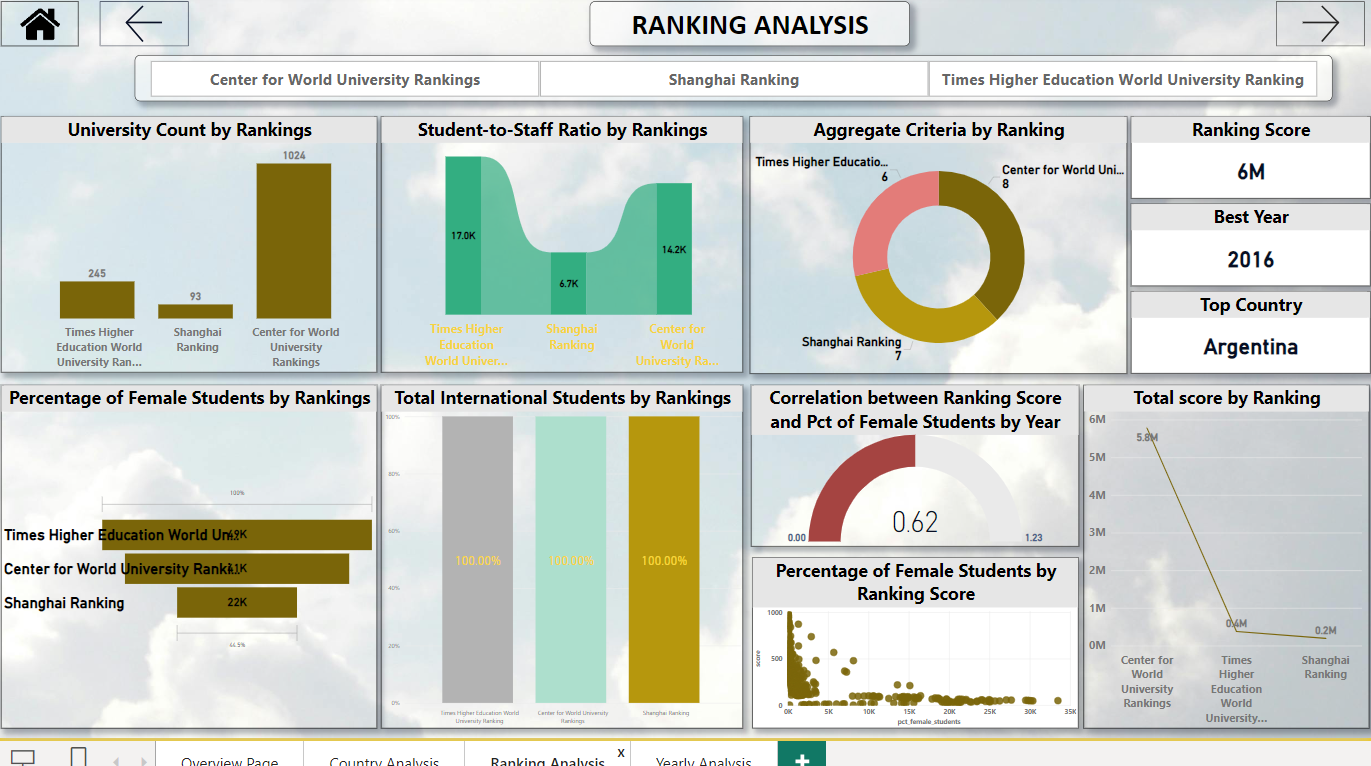

The dashboard page shown, as its layout file describes it:
{"tool":"powerbi","page":{"name":"Ranking Analysis","canvas":[2500,1350],"ordinal":2},"visuals":[{"type":"image","box":[9.1,11.4,140.8,81.8],"z":0},{"type":"columnChart","title":"University Count by Rankings","fields":{"Category":["ranking_system.system_name"],"Y":["CountNonNull(university.university_name)"]},"box":[8.5,220.2,683.3,465.9],"z":1000},{"type":"ribbonChart","title":" Student-to-Staff Ratio by Rankings","fields":{"Category":["ranking_system.system_name"],"Y":["Sum(university_year.student_staff_ratio)"]},"box":[700.2,220.2,657.9,465.9],"z":2000},{"type":"donutChart","title":"Aggregate Criteria by Ranking","fields":{"Category":["ranking_system.system_name"],"Y":["CountNonNull(ranking_criteria.criteria_name)"]},"box":[1369.5,220.3,685.9,467.8],"z":3000},{"type":"funnel","title":" Percentage of Female Students by Rankings","fields":{"Category":["ranking_system.system_name"],"Y":["Sum(university_year.pct_female_students)"]},"box":[8.5,708.7,683.3,624],"z":4000},{"type":"hundredPercentStackedColumnChart","title":"Total International Students by Rankings","fields":{"Category":["ranking_system.system_name"],"Y":["Sum(university_year.Total_Int_Student)"]},"box":[700.2,708.7,657.9,624],"z":5000},{"type":"gauge","title":"Correlation between Ranking Score and Pct of Female Students by Year","fields":{"Y":["country.score and pct_female_students correlation for year"]},"box":[1372.2,708.7,595.8,293.6],"z":6000},{"type":"scatterChart","title":"Percentage of Female Students by Ranking Score","fields":{"Y":["university_ranking_year.score"],"X":["Sum(university_year.pct_female_students)"]},"box":[1375.1,1022.1,592.9,310.6],"z":7000},{"type":"actionButton","box":[2325.6,11.4,161.2,81.8],"z":8000},{"type":"actionButton","box":[188.5,11.4,161.2,81.8],"z":9000},{"type":"textbox","box":[1078.8,11.4,581.4,81.8],"z":10000},{"type":"lineChart","title":"Total score by Ranking","fields":{"Y":["Sum(university_ranking_year.score)"],"Category":["ranking_system.system_name"]},"box":[1976.5,708.7,519.5,624],"z":11000},{"type":"card","title":"Ranking Score","fields":{"Values":["Sum(university_ranking_year.score)"]},"box":[2061.2,220.2,434.8,149.6],"z":12000},{"type":"card","title":"Best Year","fields":{"Values":["Max(university_ranking_year.year)"]},"box":[2061.2,378.4,434.8,149.6],"z":13000},{"type":"card","title":"Top Country","fields":{"Values":["Min(country.country_name)"]},"box":[2061.2,539.3,434.8,149.6],"z":14000},{"type":"slicer","fields":{"Values":["ranking_system.system_name"]},"box":[252.1,109,2175.7,84],"z":15001}]}

Visuals, with their boxes on the page's 2500x1350 design canvas (x1, y1, x2, y2). These are canvas units, not pixel positions in the 1371x766 screenshot, which may show the page scaled, cropped or inside an application window:
image: box=[9, 11, 150, 93]
"University Count by Rankings" columnChart: box=[8, 220, 692, 686]
" Student-to-Staff Ratio by Rankings" ribbonChart: box=[700, 220, 1358, 686]
"Aggregate Criteria by Ranking" donutChart: box=[1370, 220, 2055, 688]
" Percentage of Female Students by Rankings" funnel: box=[8, 709, 692, 1333]
"Total International Students by Rankings" hundredPercentStackedColumnChart: box=[700, 709, 1358, 1333]
"Correlation between Ranking Score and Pct of Female Students by Year" gauge: box=[1372, 709, 1968, 1002]
"Percentage of Female Students by Ranking Score" scatterChart: box=[1375, 1022, 1968, 1333]
actionButton: box=[2326, 11, 2487, 93]
actionButton: box=[188, 11, 350, 93]
textbox: box=[1079, 11, 1660, 93]
"Total score by Ranking" lineChart: box=[1976, 709, 2496, 1333]
"Ranking Score" card: box=[2061, 220, 2496, 370]
"Best Year" card: box=[2061, 378, 2496, 528]
"Top Country" card: box=[2061, 539, 2496, 689]
slicer - ranking_system.system_name: box=[252, 109, 2428, 193]
